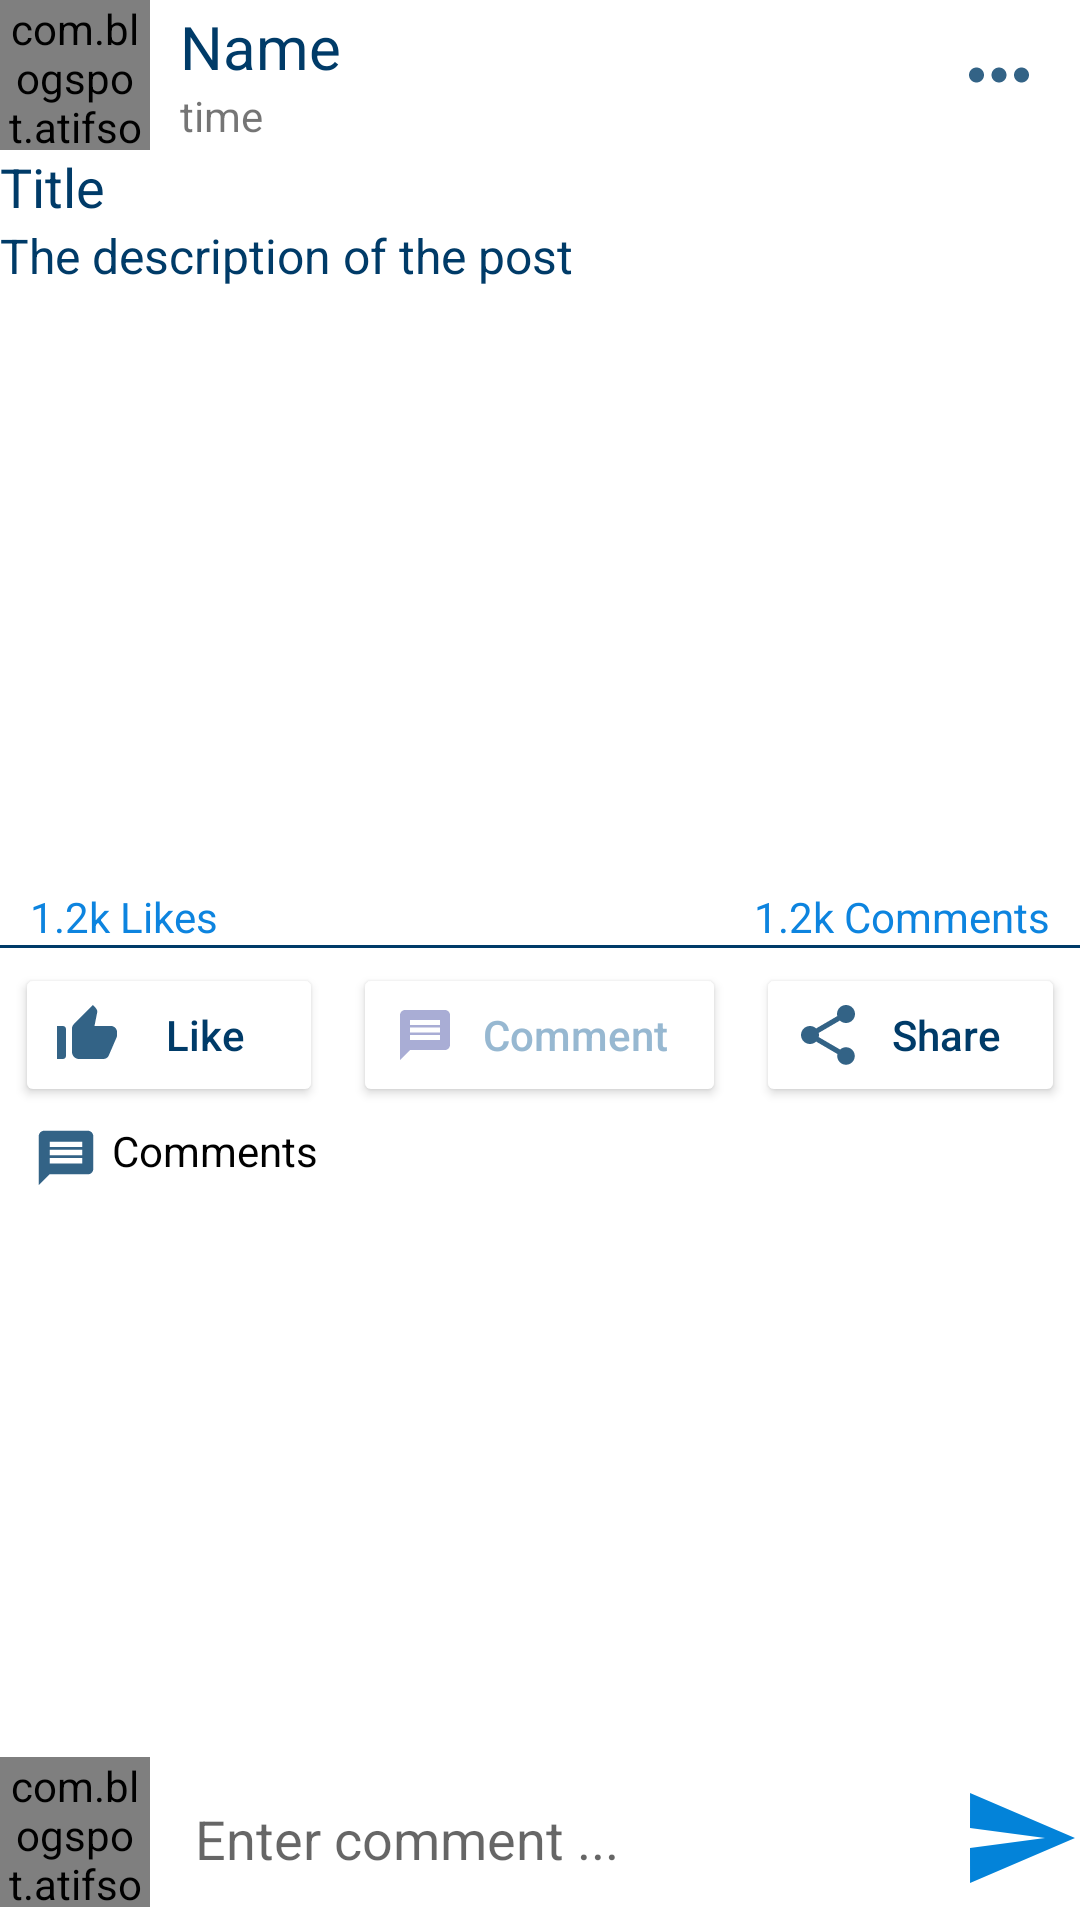

Where to tap for icons on this 1080*1920 app screen, as (x,y):
more: (999,75)
send: (1022,1838)
